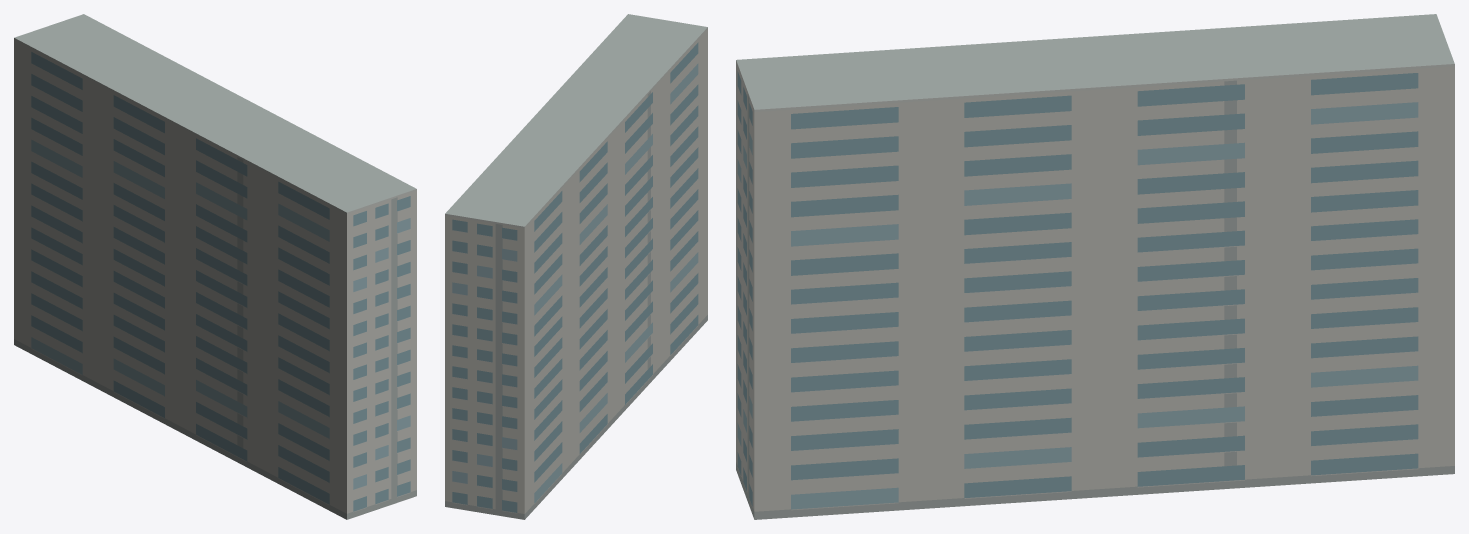
The model's file is residential-1edd56f1-98fb-4a09-aa34-770ccc9f8328.glb.
The picture shows the model from 3 angles, left to right: view 1: azimuth 30°, elevation 25°; view 2: azimuth 150°, elevation 25°; view 3: azimuth 270°, elevation 25°; orthographic projection. The views are drawn at different scales.
Parts seen in each view (by area): view 1: residential-1edd56f1-98fb-4a09-aa34-770ccc9f8328.tmp; view 2: residential-1edd56f1-98fb-4a09-aa34-770ccc9f8328.tmp; view 3: residential-1edd56f1-98fb-4a09-aa34-770ccc9f8328.tmp.
Part boxes in pixels (x1,y1,x2,y2): residential-1edd56f1-98fb-4a09-aa34-770ccc9f8328.tmp: [14, 14, 416, 519]; residential-1edd56f1-98fb-4a09-aa34-770ccc9f8328.tmp: [445, 14, 707, 519]; residential-1edd56f1-98fb-4a09-aa34-770ccc9f8328.tmp: [736, 14, 1454, 519].
Bounding box in the file's own units: 21.06 × 42 × 66.73.
